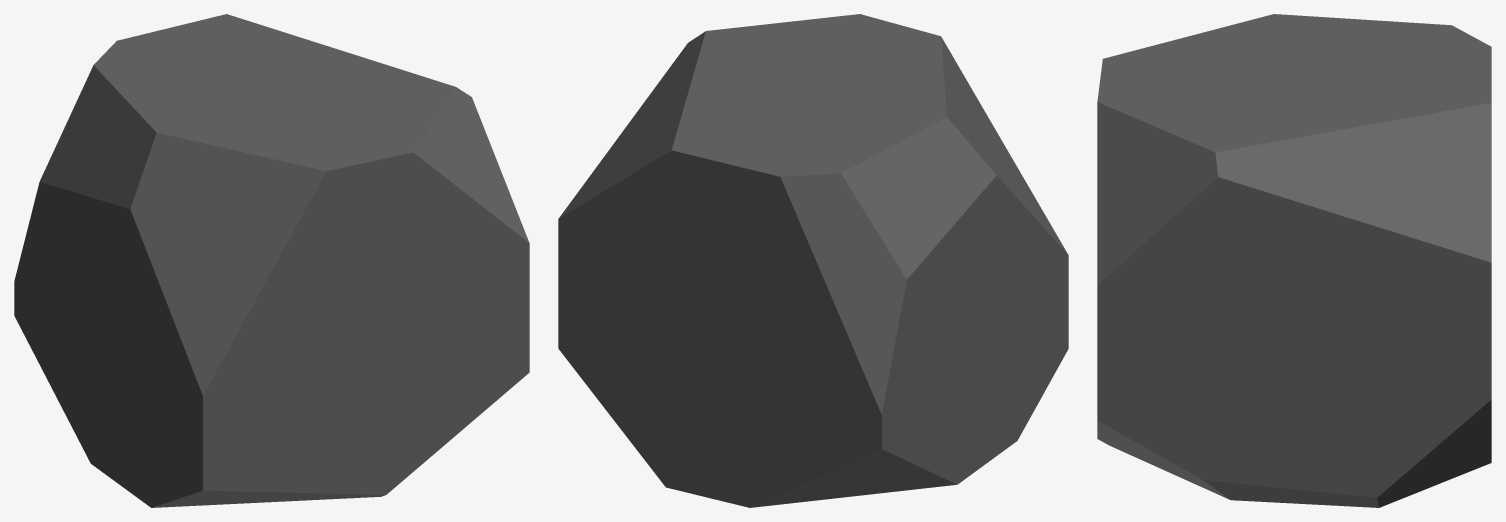
File: stone_dark_gray_3.fbx
The picture shows the model from 3 angles, left to right: view 1: azimuth 30°, elevation 25°; view 2: azimuth 150°, elevation 25°; view 3: azimuth 270°, elevation 25°; orthographic projection. The views are drawn at different scales.
Parts seen in each view (by area): view 1: Cube.002; view 2: Cube.002; view 3: Cube.002.
Part boxes in pixels (x1,y1,x2,y2): Cube.002: (14,14,529,507); Cube.002: (558,14,1068,507); Cube.002: (1097,14,1491,507).
Bounding box in the file's own units: 80.4 × 80.4 × 80.4.
